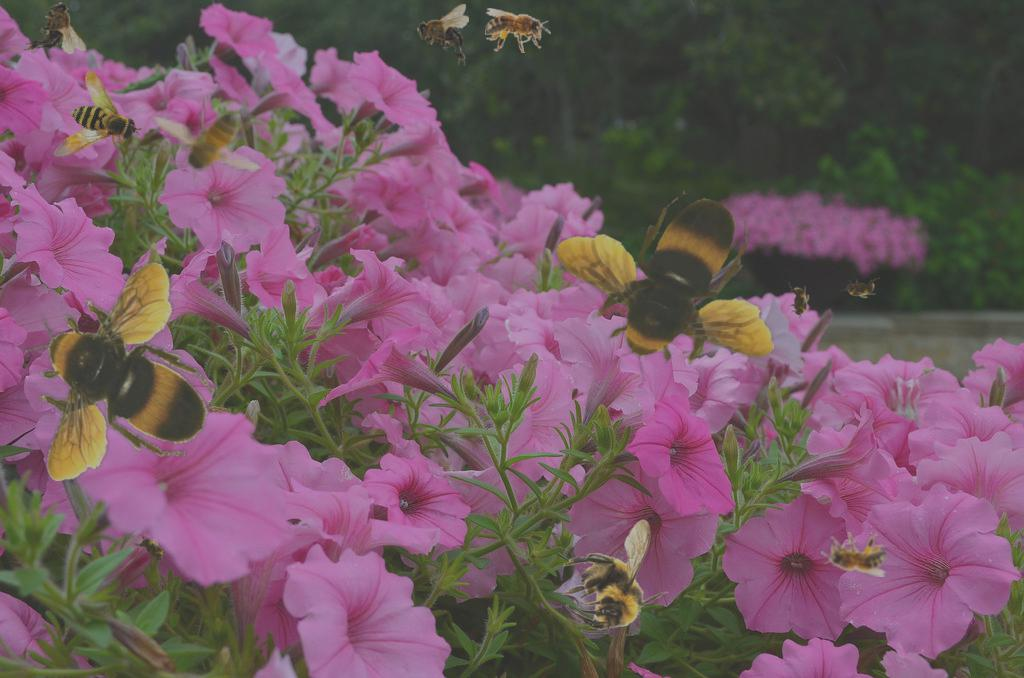Bee: (554, 190, 774, 381), (24, 261, 215, 481), (25, 64, 145, 182), (562, 519, 669, 634), (152, 92, 263, 186), (416, 4, 469, 66), (24, 1, 86, 54), (821, 532, 887, 577), (485, 8, 551, 53), (130, 527, 174, 573), (788, 282, 810, 322), (840, 277, 880, 299)
